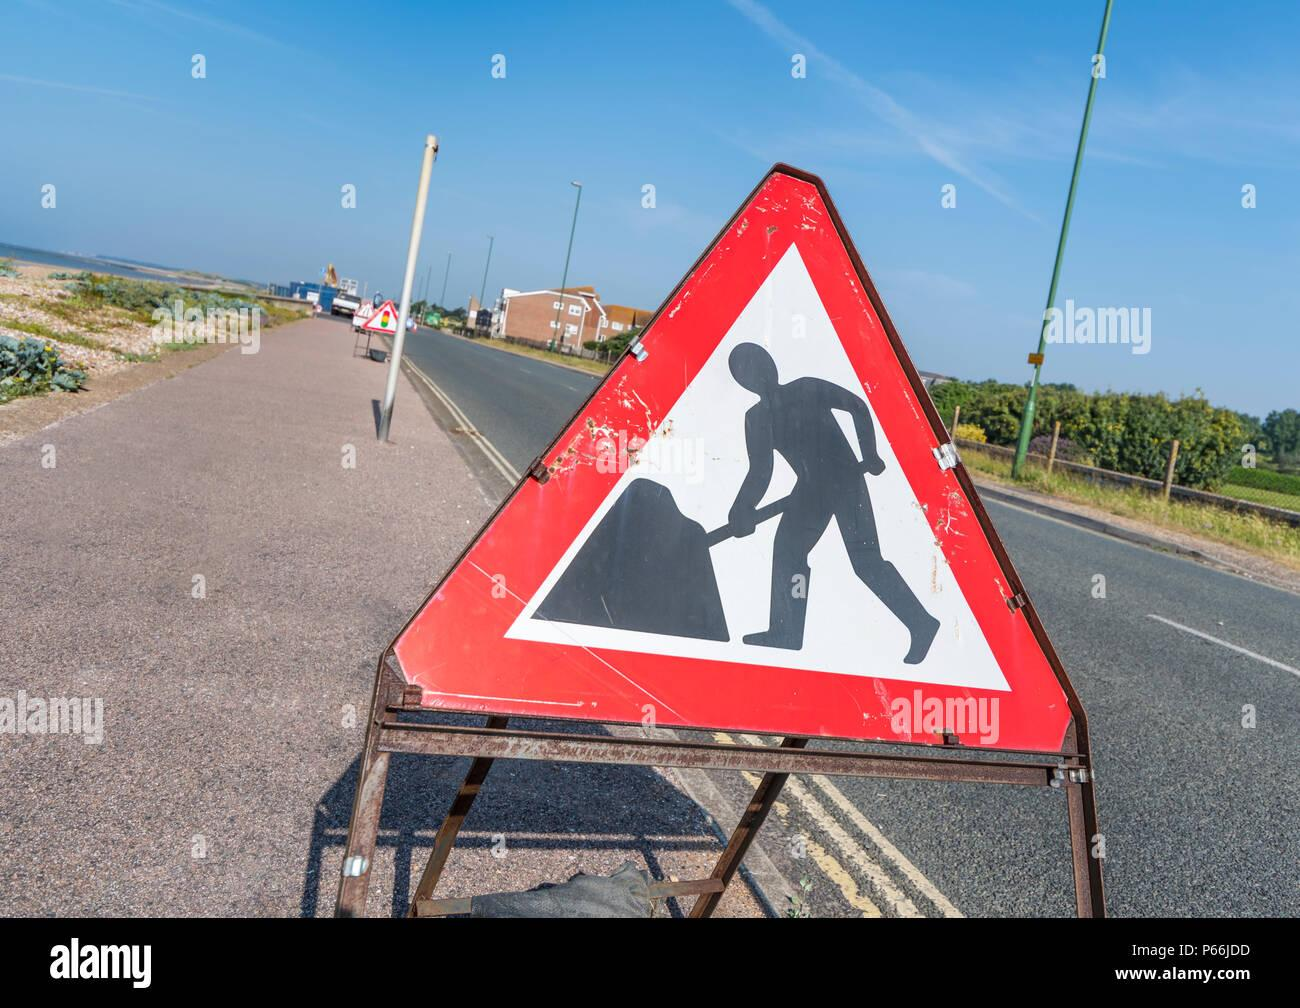road-work: (391, 167, 1075, 753)
